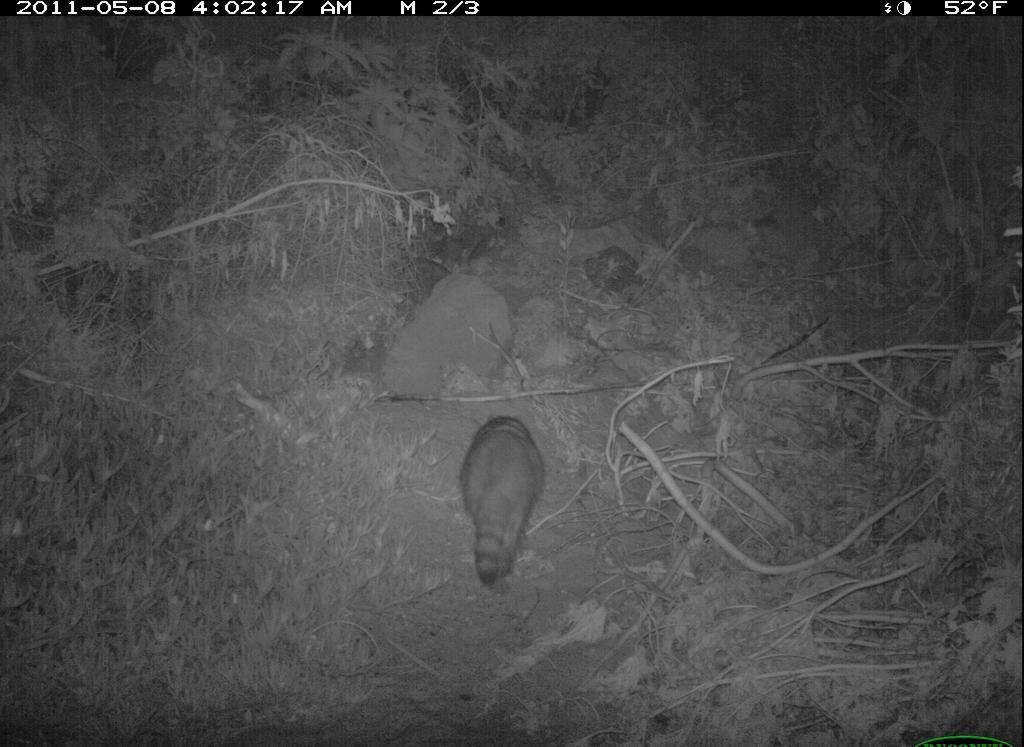raccoon: (455, 410, 552, 593)
